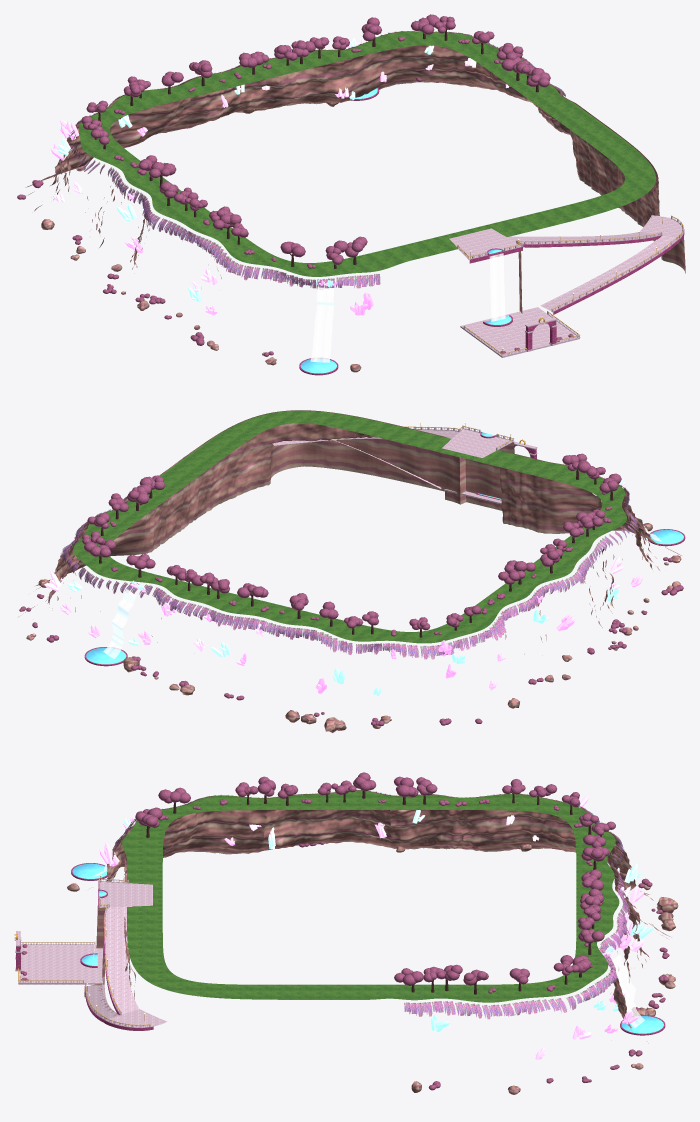
Rendered from citadel_mesa.glb.
3 renders of one model, top to bottom at view 1: azimuth 30°, elevation 25°; view 2: azimuth 150°, elevation 25°; view 3: azimuth 270°, elevation 25°, orthographic. The views are drawn at different scales.
Parts seen in each view (by area): view 1: mesa_lawn, mesa_sand, mesa_canopy, mesa_paving, mesa_wisteria, mesa_falls, mesa_pinkstone, mesa_trim, mesa_crys_pink, mesa_crys_aqua, mesa_pool, mesa_bark (+1 smaller); view 2: mesa_sand, mesa_lawn, mesa_canopy, mesa_wisteria, mesa_paving, mesa_crys_pink, mesa_pool, mesa_crys_aqua, mesa_falls, mesa_crys_lilac, mesa_bark; view 3: mesa_lawn, mesa_sand, mesa_canopy, mesa_paving, mesa_wisteria, mesa_crys_pink, mesa_pool, mesa_trim, mesa_pinkstone, mesa_crys_aqua, mesa_falls, mesa_bark (+2 smaller).
Boxes of the visible parts, <box> form: mesa_lawn: <box>78,31,655,276</box>; mesa_sand: <box>25,31,685,372</box>; mesa_canopy: <box>17,14,573,356</box>; mesa_paving: <box>449,215,682,357</box>; mesa_wisteria: <box>67,31,565,288</box>; mesa_falls: <box>310,43,505,362</box>; mesa_pinkstone: <box>299,87,684,375</box>; mesa_trim: <box>457,216,683,356</box>; mesa_crys_pink: <box>50,39,433,315</box>; mesa_crys_aqua: <box>57,37,561,301</box>; mesa_pool: <box>300,88,511,373</box>; mesa_bark: <box>94,28,538,268</box>; mesa_sand: <box>19,410,681,732</box>; mesa_lawn: <box>73,410,626,643</box>; mesa_canopy: <box>19,453,683,726</box>; mesa_wisteria: <box>60,485,637,659</box>; mesa_paving: <box>272,429,511,504</box>; mesa_crys_pink: <box>60,477,642,693</box>; mesa_pool: <box>86,432,683,664</box>; mesa_crys_aqua: <box>68,479,626,695</box>; mesa_falls: <box>103,501,661,658</box>; mesa_crys_lilac: <box>44,483,623,690</box>; mesa_bark: <box>99,469,613,637</box>; mesa_lawn: <box>122,790,619,1002</box>; mesa_sand: <box>67,790,678,1094</box>; mesa_canopy: <box>20,772,669,1090</box>; mesa_paving: <box>18,882,167,1027</box>; mesa_wisteria: <box>114,790,630,1019</box>; mesa_crys_pink: <box>99,795,644,1033</box>; mesa_pool: <box>72,863,663,1033</box>; mesa_trim: <box>15,879,150,1027</box>; mesa_pinkstone: <box>16,863,665,1035</box>; mesa_crys_aqua: <box>124,810,653,1032</box>; mesa_falls: <box>92,828,644,1028</box>; mesa_bark: <box>146,791,601,994</box>.
Size of the model in its own units: 223 by 40.26 by 237.
15 materials, 11 textured.
